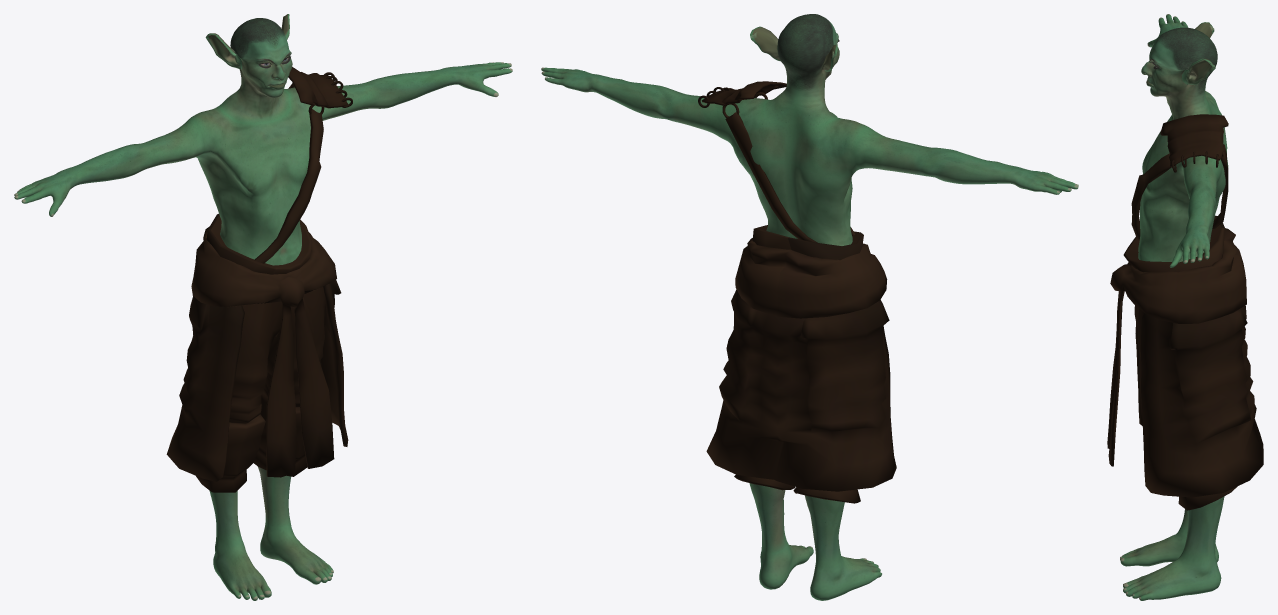
The model's file is goblin.obj.
The picture shows the model from 3 angles, left to right: view 1: azimuth 30°, elevation 25°; view 2: azimuth 150°, elevation 25°; view 3: azimuth 270°, elevation 25°; orthographic projection. The views are drawn at different scales.
Parts seen in each view (by area): view 1: Bottoms, Body; view 2: Bottoms, Body; view 3: Bottoms, Body.
Boxes of the visible parts, x1=… form: Bottoms: x1=166, y1=67, x2=352, y2=492; Body: x1=14, y1=14, x2=512, y2=600; Bottoms: x1=698, y1=81, x2=896, y2=503; Body: x1=541, y1=14, x2=1078, y2=600; Bottoms: x1=1107, y1=114, x2=1263, y2=510; Body: x1=1120, y1=14, x2=1228, y2=600.
Bounding box in the file's own units: 173 × 179 × 46.29.
